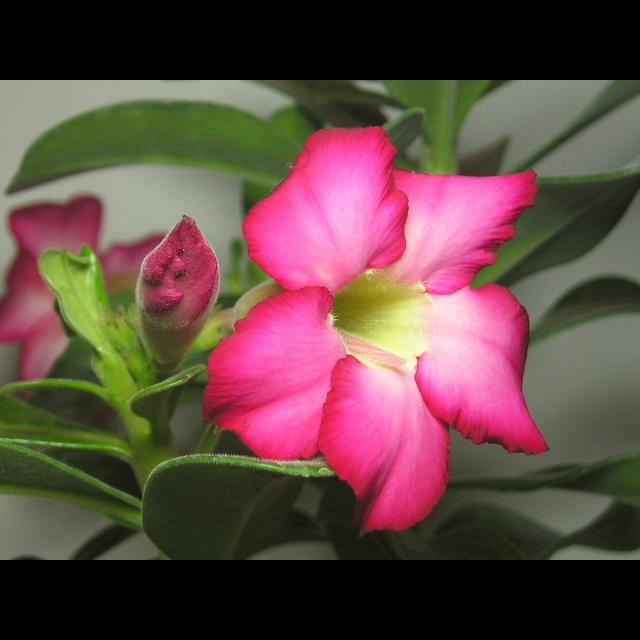Flower: (198, 114, 550, 526), (0, 195, 170, 398)
